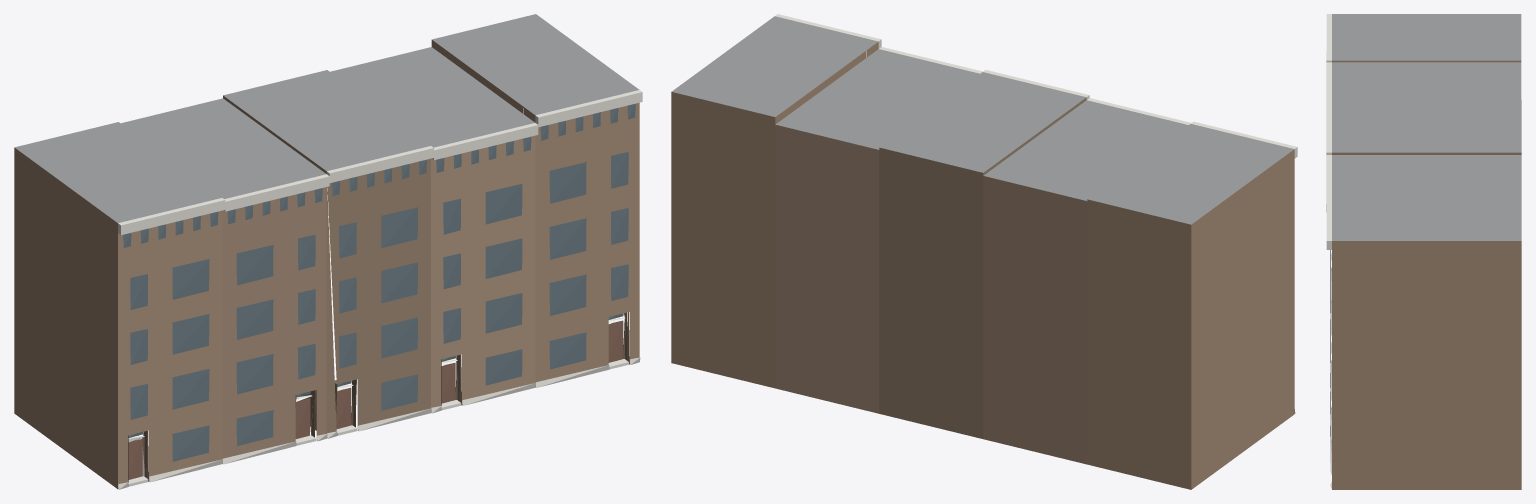
Rendered from chunk-face-haring-6-18-r1.lod2.glb.
3 renders of one model, left to right at view 1: azimuth 30°, elevation 25°; view 2: azimuth 150°, elevation 25°; view 3: azimuth 270°, elevation 25°, orthographic. The views are drawn at different scales.
Parts seen in each view (by area): view 1: lod2; view 2: lod2; view 3: lod2.
Part boxes in pixels (x1,y1,x2,y2): lod2: (14, 14, 642, 489); lod2: (671, 14, 1297, 489); lod2: (1326, 14, 1521, 489).
Bounding box in the file's own units: 30.5 × 15.21 × 10.8.
